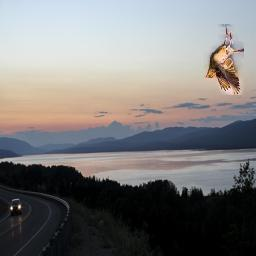Sparrow: (204, 25, 244, 96)
